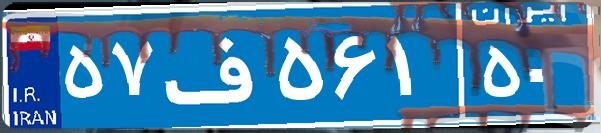0: (525, 38, 570, 115)
1: (385, 28, 445, 110)
5: (273, 28, 330, 110), (57, 26, 110, 107), (475, 38, 525, 113)
6: (330, 28, 385, 110)
7: (110, 28, 158, 105)
ف: (158, 15, 273, 115)
